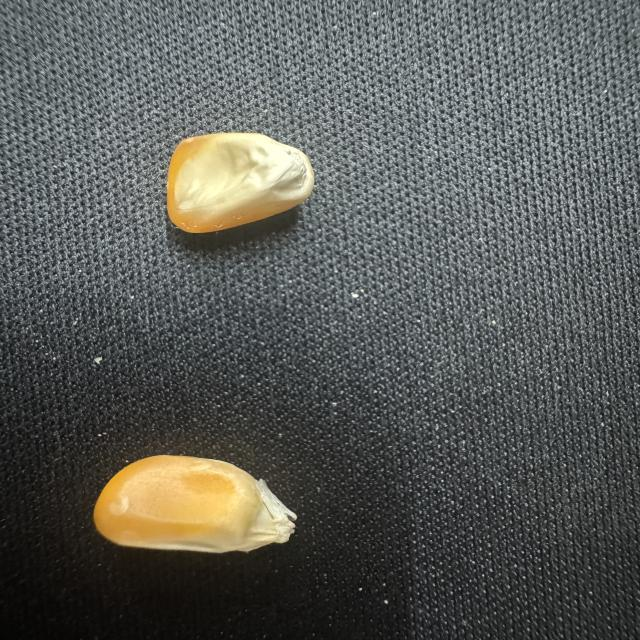Bad-Seed: (85, 446, 308, 560), (155, 120, 328, 250)
